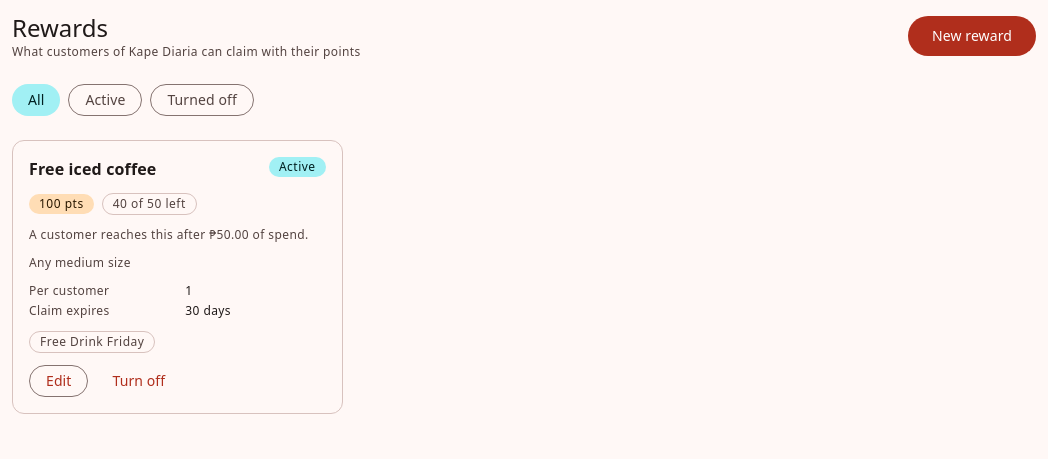
Scenario: RewardsManager: the edit flow › shows a failed toggle on the row rather than swallowing it
The image size is (1048, 459).
What coordinates should you click on to do the following:
click the button "Turn off"
I would click on:
 (139, 381)
Its box is [96,365,181,397].
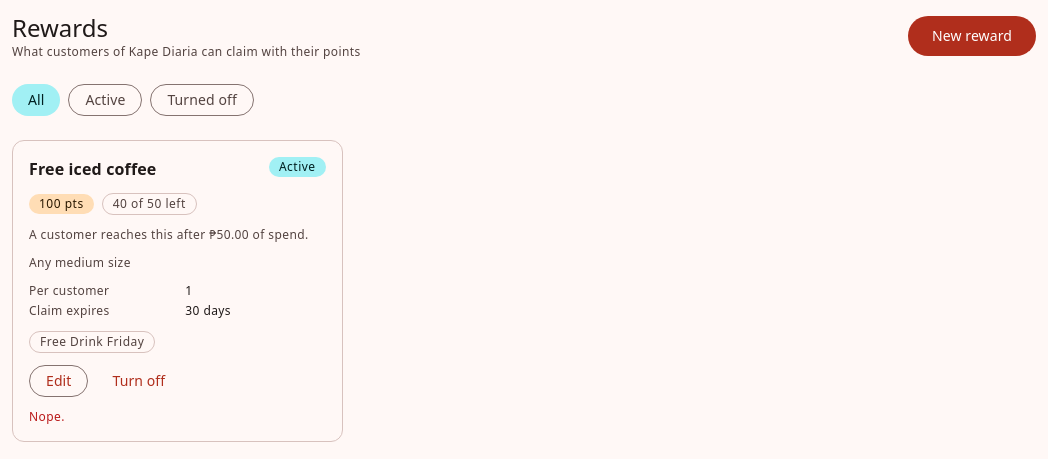
Expected: the message reads "Nope.", [29,408,65,425]
